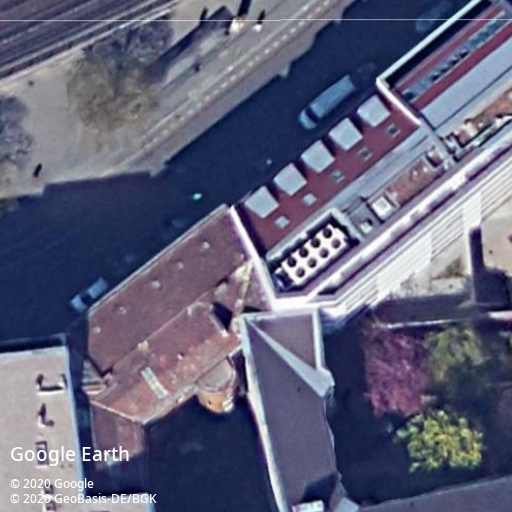Chiller: (281, 222, 350, 287)
